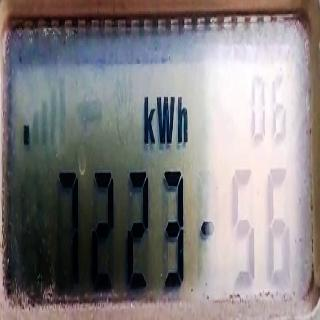-: (200, 212, 215, 243), (22, 120, 31, 150)
2: (123, 165, 153, 296), (88, 164, 116, 295)
3: (160, 161, 189, 299)
5: (228, 159, 256, 297)
6: (264, 158, 293, 293)
7: (57, 161, 83, 292)
